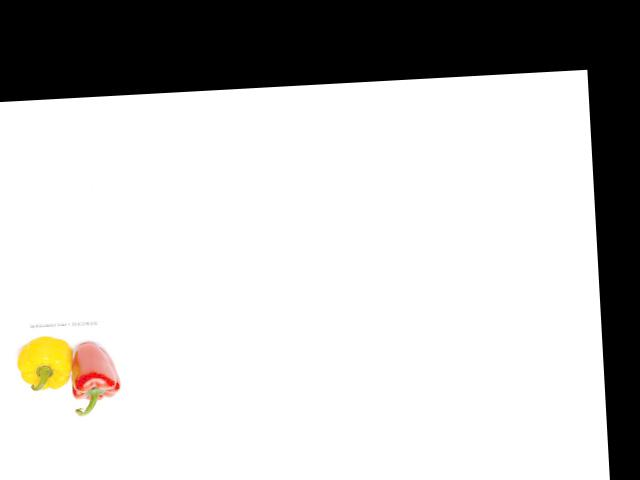bell_pepper: (13, 330, 76, 396)
